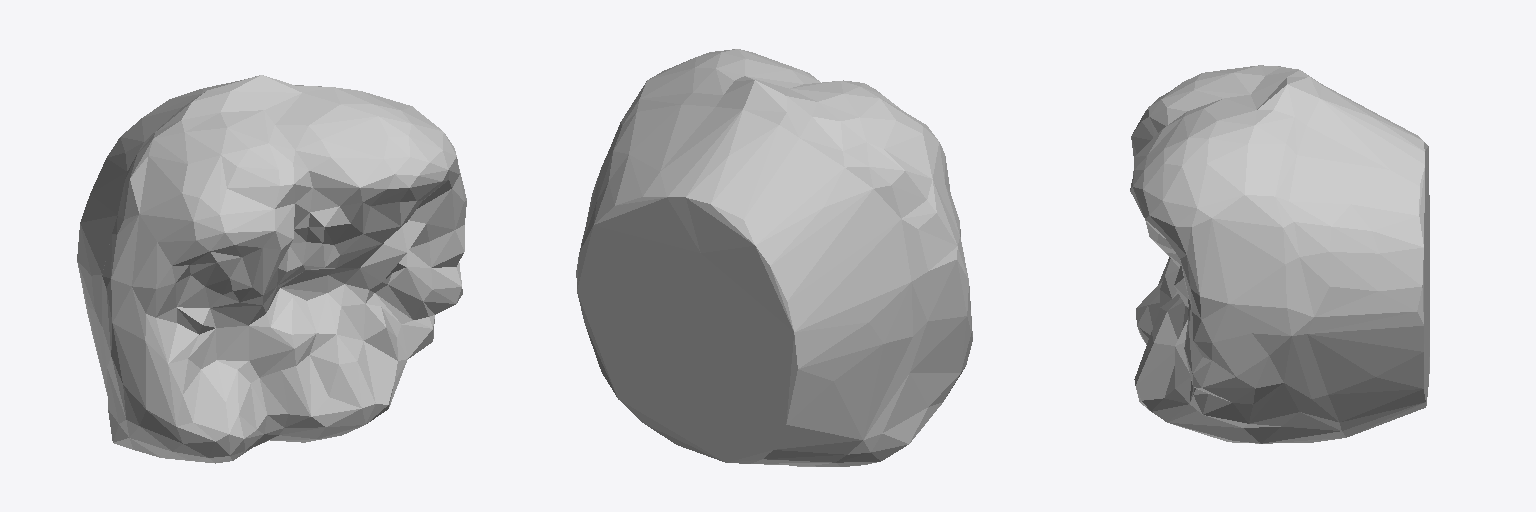
The model's file is local_t16_7780_si.OBJ.
The picture shows the model from 3 angles: view 1: azimuth 30°, elevation 25°; view 2: azimuth 150°, elevation 25°; view 3: azimuth 270°, elevation 25°; orthographic projection.
Visible parts, largest first — view 1: Group64123; view 2: Group64123; view 3: Group64123.
Part boxes in pixels (left/top/right/bottom): Group64123: left=77, top=75, right=466, bottom=463; Group64123: left=576, top=49, right=972, bottom=466; Group64123: left=1130, top=65, right=1429, bottom=443.
Size of the model in its own units: 11.75 by 11.44 by 8.84.